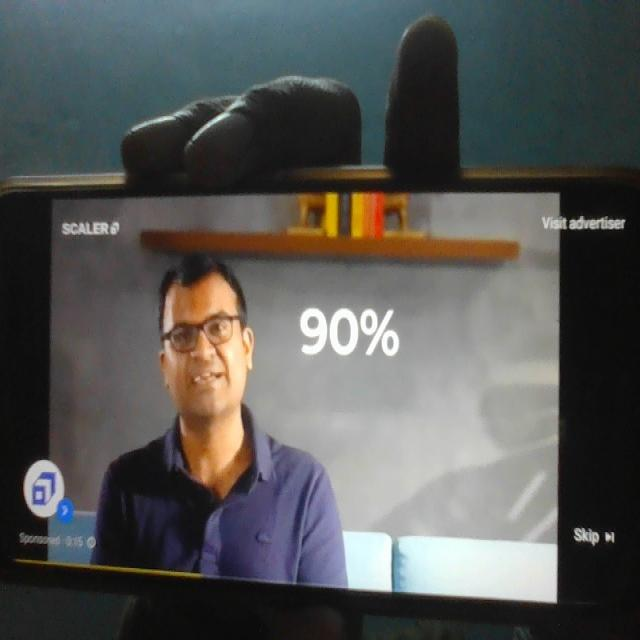fake: (153, 239, 259, 440)
